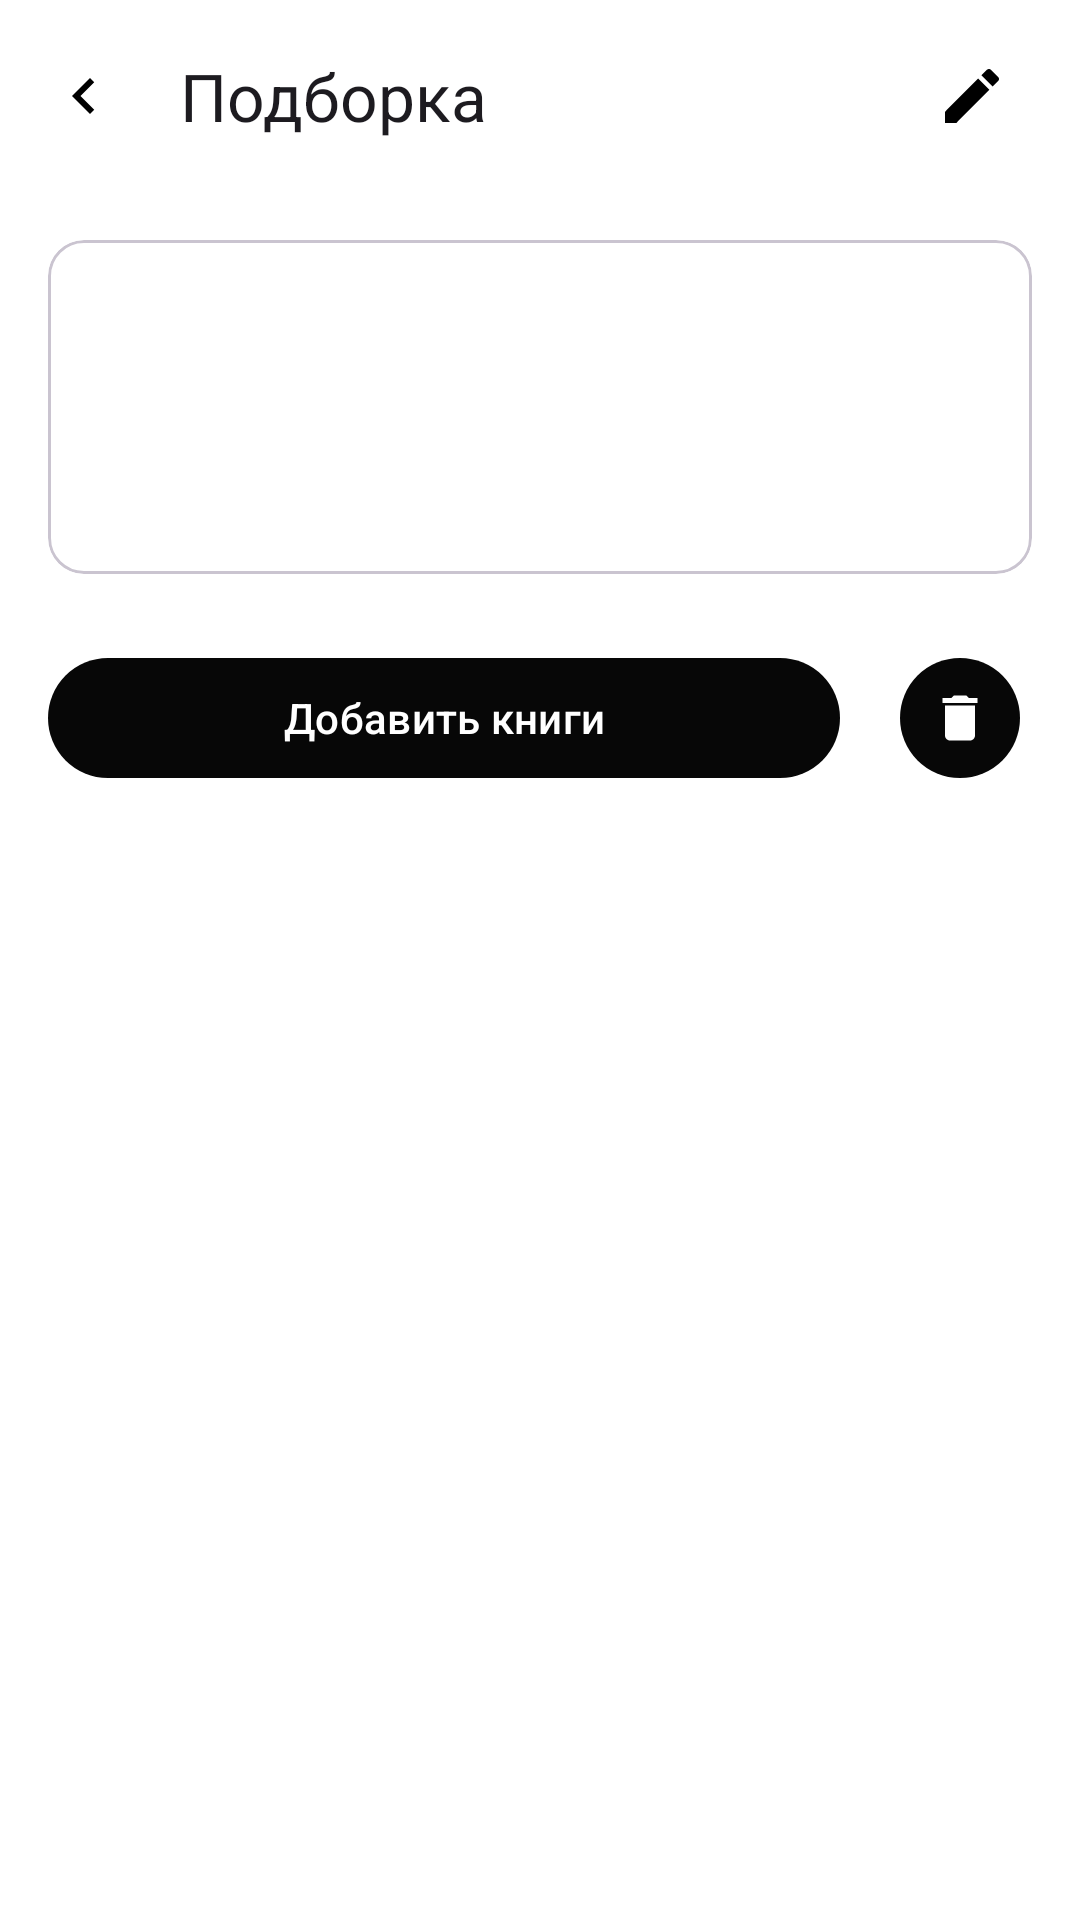

Icon click points for this 1080x1920 phone screenshot, format (x=x, y=y):
Редактировать подборку: (x=972, y=96)
Удалить подборку: (x=960, y=718)
